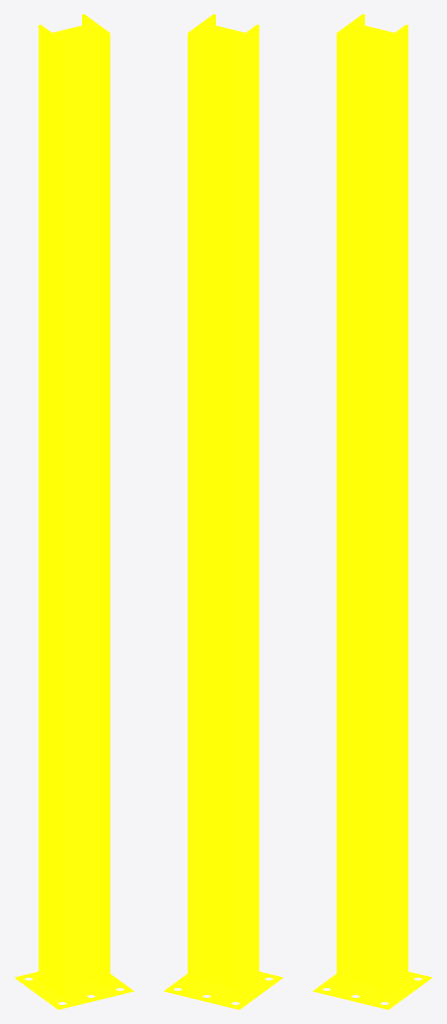
The model's file is Body.dae.
The picture shows the model from 3 angles, left to right: view 1: azimuth 30°, elevation 25°; view 2: azimuth 150°, elevation 25°; view 3: azimuth 330°, elevation 25°; orthographic projection.
Parts seen in each view (by area): view 1: tmp_export_Body; view 2: tmp_export_Body; view 3: tmp_export_Body.
Boxes of the visible parts, x1=… form: tmp_export_Body: x1=14, y1=14, x2=134, y2=1009; tmp_export_Body: x1=163, y1=14, x2=283, y2=1009; tmp_export_Body: x1=312, y1=14, x2=432, y2=1009.
Bounding box in the file's own units: 0.5 × 0.5 × 6.
